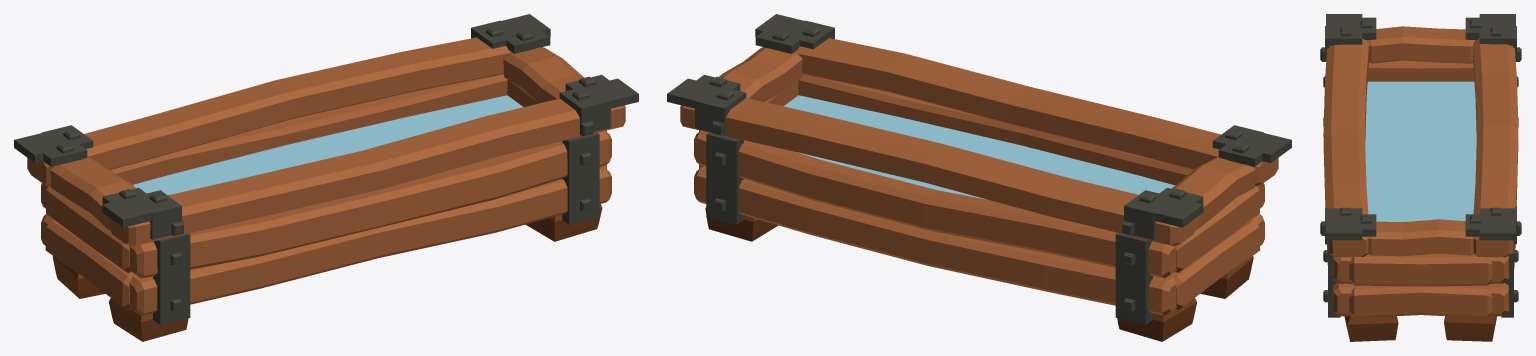
Rendered from water-trough-partial.glb.
3 renders of one model, left to right at view 1: azimuth 30°, elevation 25°; view 2: azimuth 150°, elevation 25°; view 3: azimuth 270°, elevation 25°, orthographic. The views are drawn at different scales.
Parts seen in each view (by area): view 1: walls, rim, straps, water, feet; view 2: walls, rim, straps, water, feet; view 3: rim, water, walls, straps, feet.
Boxes of the visible parts, <box> form: walls: <box>41,74,611,315</box>; rim: <box>27,37,625,246</box>; straps: <box>14,14,638,324</box>; water: <box>133,95,523,195</box>; feet: <box>52,204,602,341</box>; walls: <box>694,74,1264,315</box>; rim: <box>680,38,1278,246</box>; straps: <box>667,14,1291,324</box>; water: <box>783,95,1174,199</box>; feet: <box>705,207,1253,341</box>; rim: <box>1323,26,1518,257</box>; water: <box>1365,81,1476,221</box>; walls: <box>1325,60,1516,317</box>; straps: <box>1320,14,1521,317</box>; feet: <box>1344,316,1496,341</box>.
Size of the model in its own units: 1.88 by 0.498 by 0.728.
